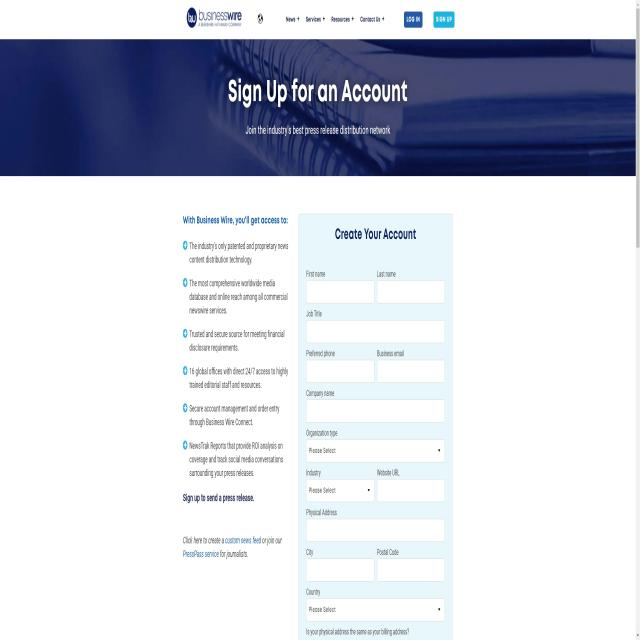menu-bar: (400, 8, 454, 31)
tab-bar: (276, 8, 393, 32)
